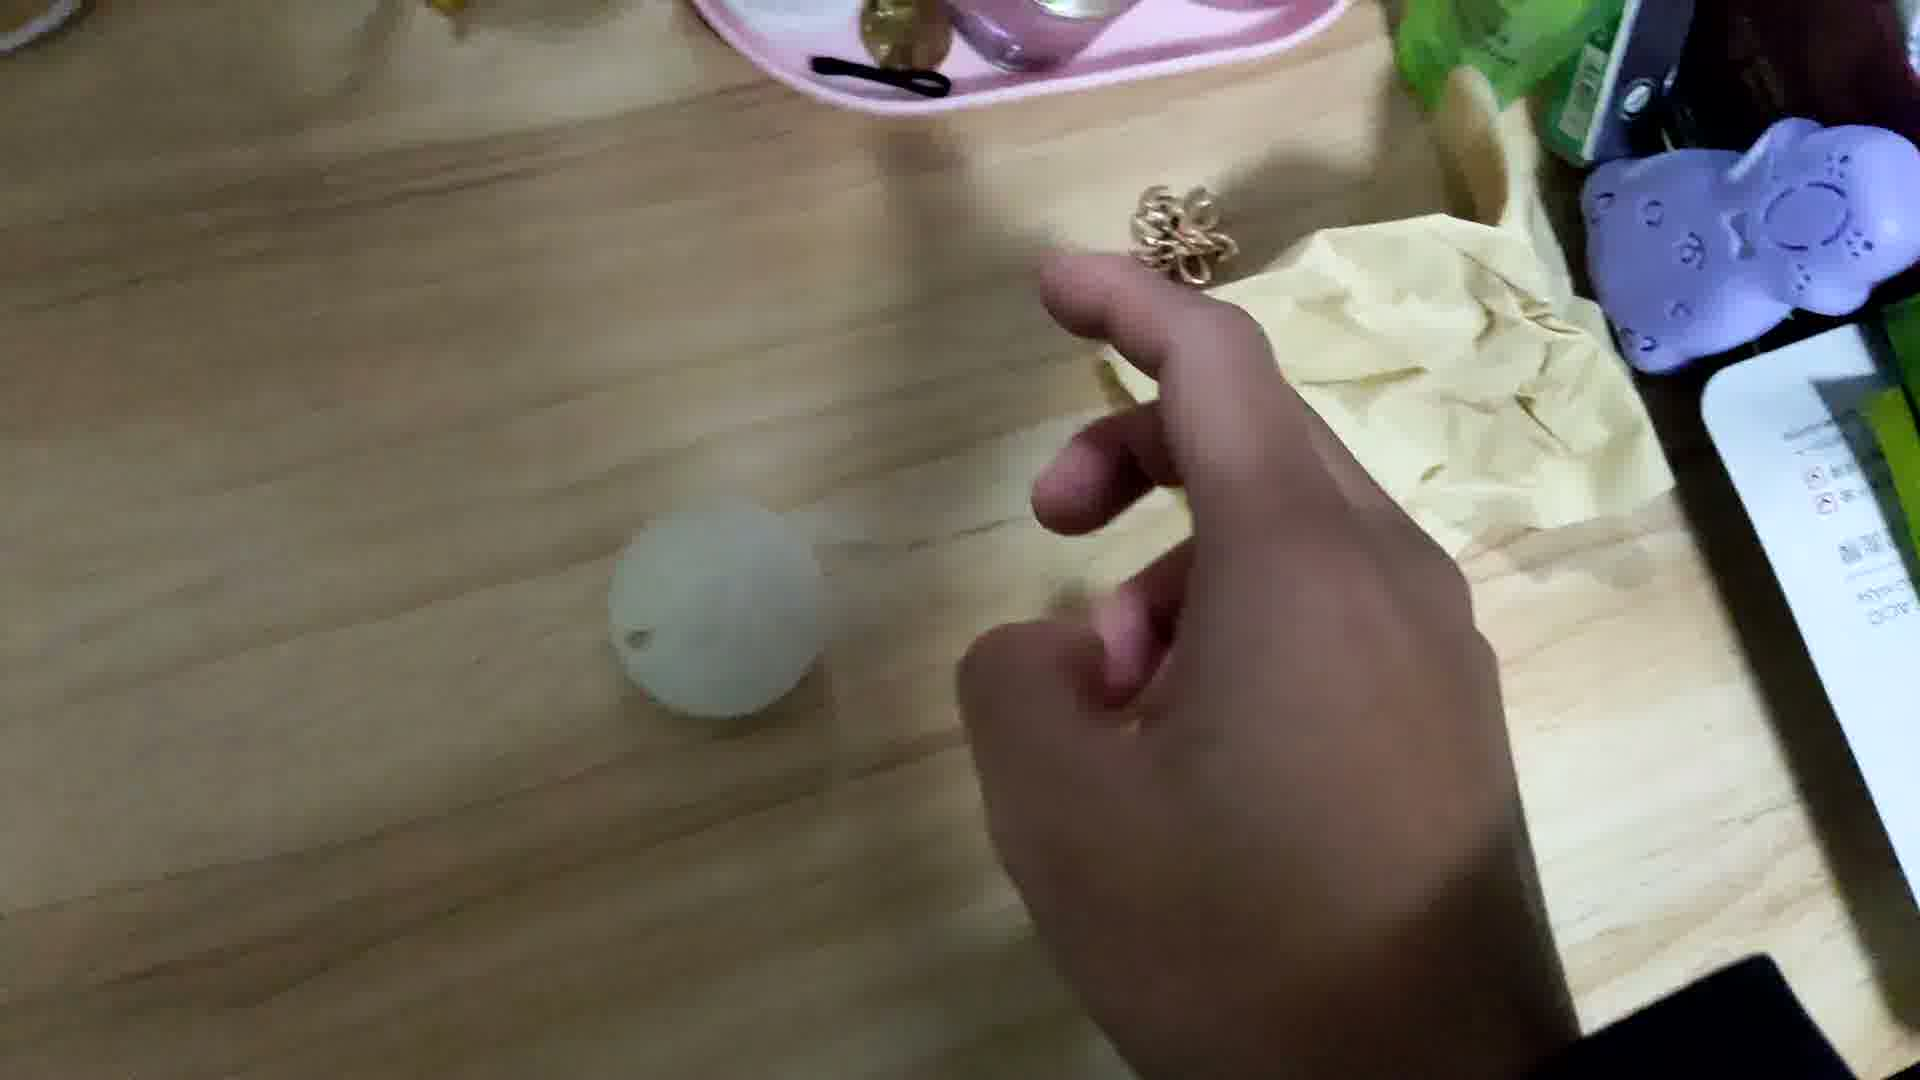Ball: (612, 498, 829, 711)
